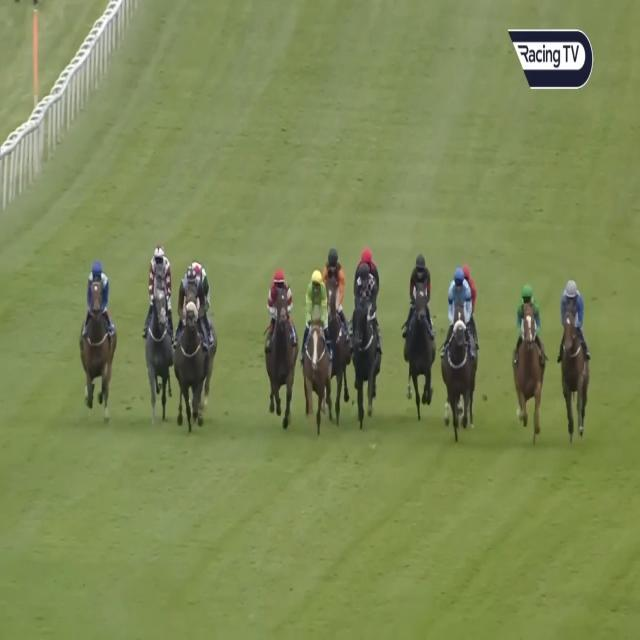horses-racing: (443, 265, 477, 442), (559, 273, 592, 442), (81, 262, 118, 411), (400, 251, 436, 402), (143, 245, 173, 402), (300, 270, 330, 425), (514, 286, 545, 432), (265, 264, 294, 416), (180, 266, 205, 424), (354, 260, 378, 423), (323, 248, 348, 372), (191, 256, 214, 305), (461, 257, 480, 316), (351, 243, 378, 276)
